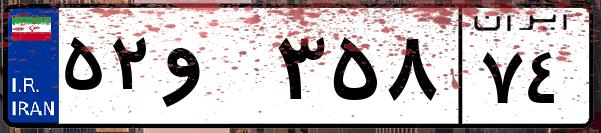2: (110, 28, 158, 98)
3: (270, 28, 330, 110)
4: (525, 38, 570, 115)
5: (330, 28, 385, 110), (57, 26, 110, 100)
7: (475, 38, 525, 113)
8: (385, 28, 445, 110)
و: (158, 20, 270, 120)
